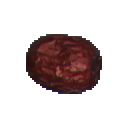gd: (20, 21, 115, 118)
